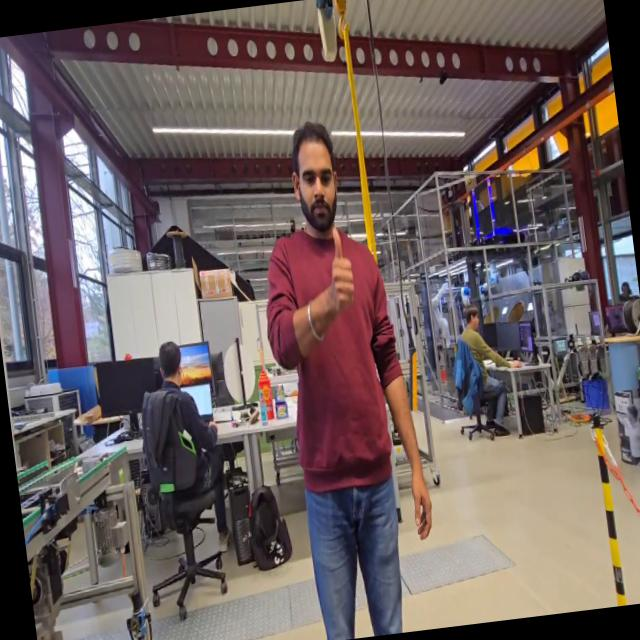thumbs_up: (324, 224, 360, 316)
